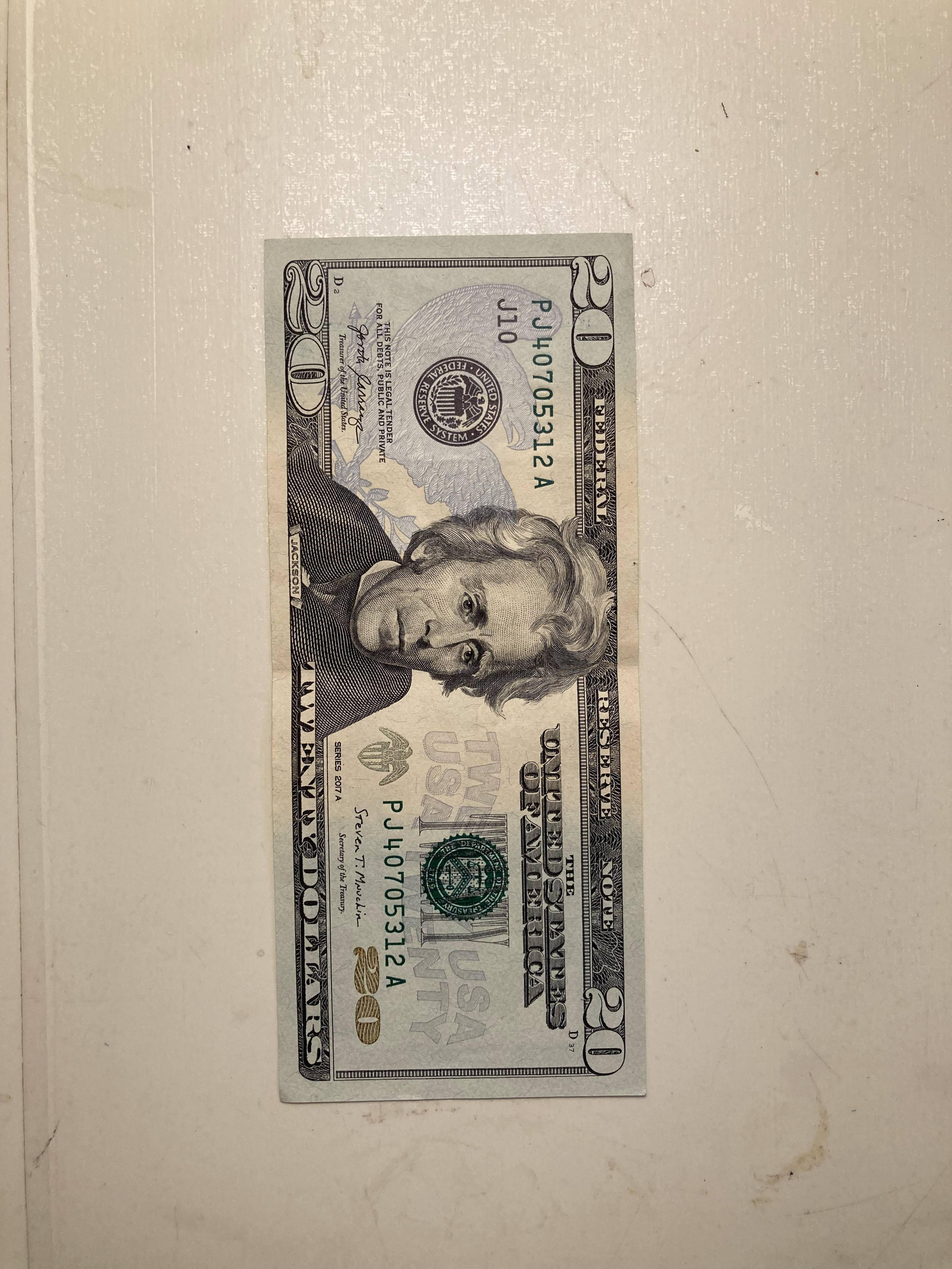twenty-front: (261, 230, 654, 1106)
